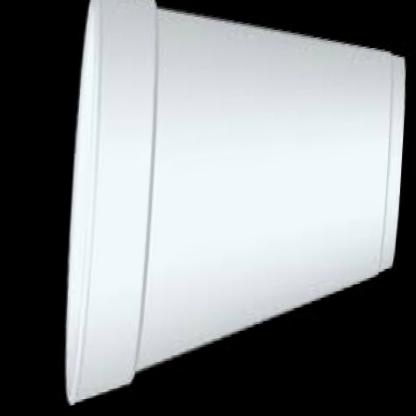trash: (66, 0, 404, 402)
